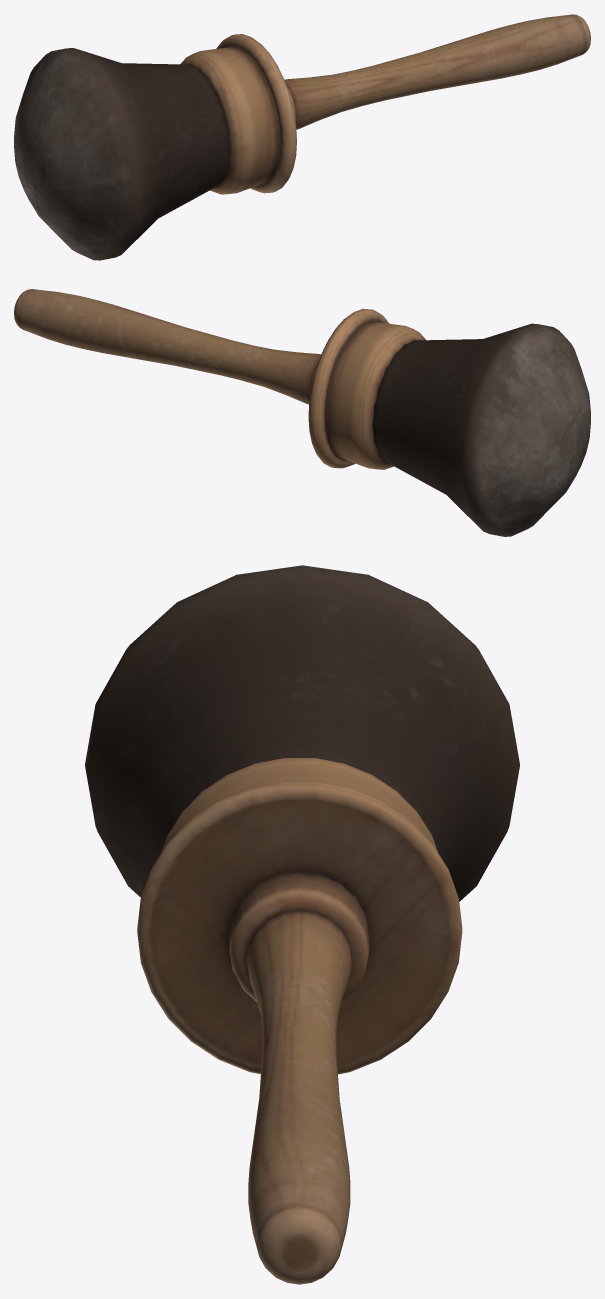
File: SM_PaintBrush_05.fbx
3 renders of one model, top to bottom at view 1: azimuth 30°, elevation 25°; view 2: azimuth 150°, elevation 25°; view 3: azimuth 270°, elevation 25°, orthographic. The views are drawn at different scales.
Visible parts, largest first — view 1: SM_PaintBrush_05_LOD0; view 2: SM_PaintBrush_05_LOD0; view 3: SM_PaintBrush_05_LOD0.
Part boxes in pixels (bbox=[...]): SM_PaintBrush_05_LOD0: bbox=[14, 14, 590, 260]; SM_PaintBrush_05_LOD0: bbox=[14, 289, 590, 536]; SM_PaintBrush_05_LOD0: bbox=[85, 565, 519, 1284].
Size of the model in its own units: 53.54 by 18.35 by 18.35.
1 material, 1 textured.
